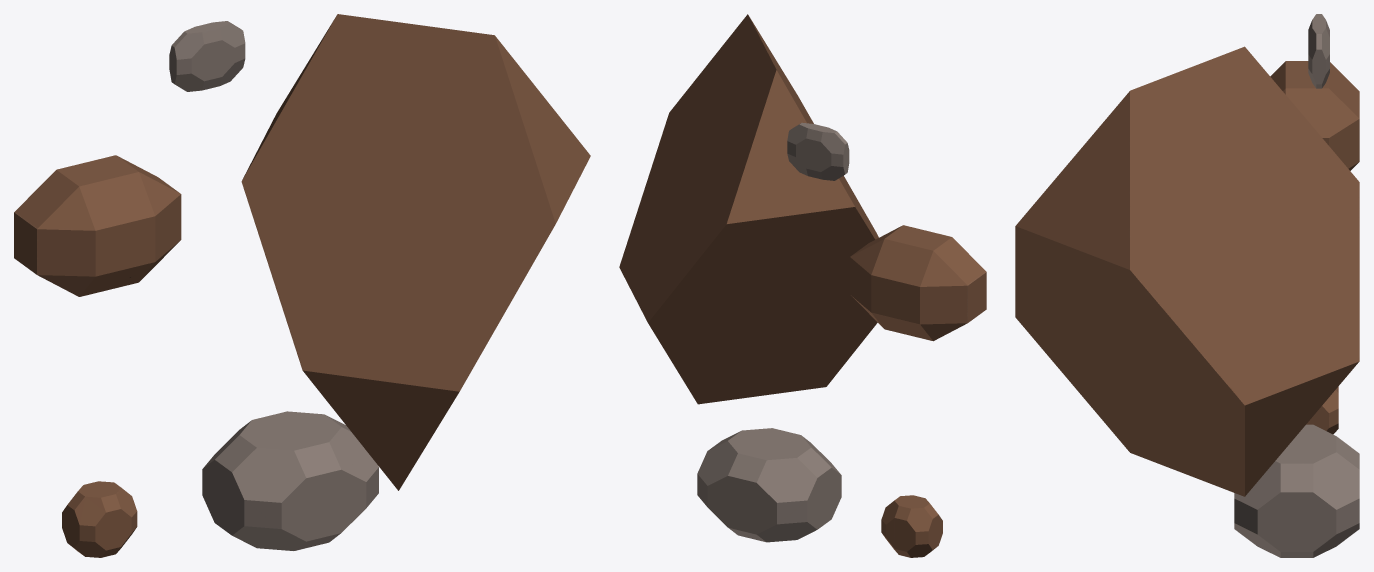
Rendered from RockFormation_02.glb.
3 views of the same model, side by side, from view 1: azimuth 30°, elevation 25°; view 2: azimuth 150°, elevation 25°; view 3: azimuth 270°, elevation 25° (orthographic). The views are drawn at different scales.
Parts seen in each view (by area): view 1: node_id5; view 2: node_id5; view 3: node_id5.
Boxes of the visible parts, <box> form: node_id5: <box>14,14,590,557</box>; node_id5: <box>619,14,986,557</box>; node_id5: <box>1015,14,1359,557</box>.
Bounding box in the file's own units: 0.4734 × 0.512 × 0.3188.
1 material, 1 textured.
